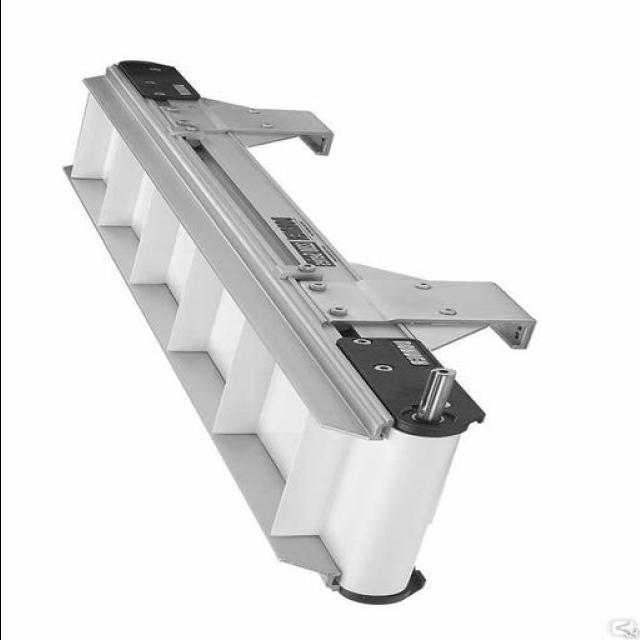conveyor: (65, 89, 352, 561)
